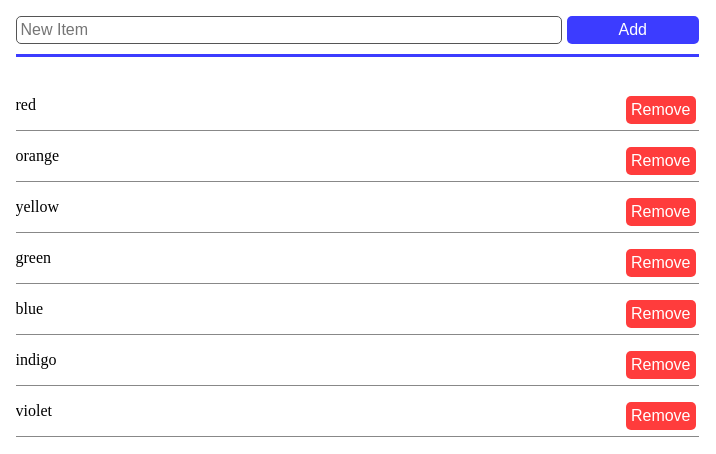
Test: List Component › should be able to remove item to the list
Step 1. Click the button "Remove" in the row of "red" → click(661, 110), box [626, 96, 696, 124]
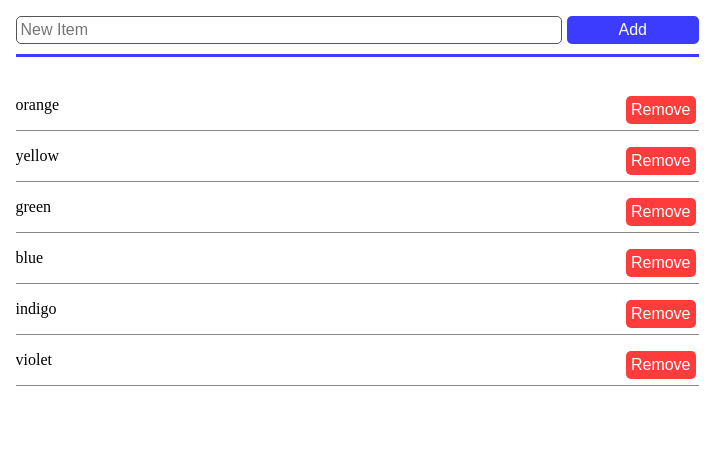
Result: the list item "red" is gone
